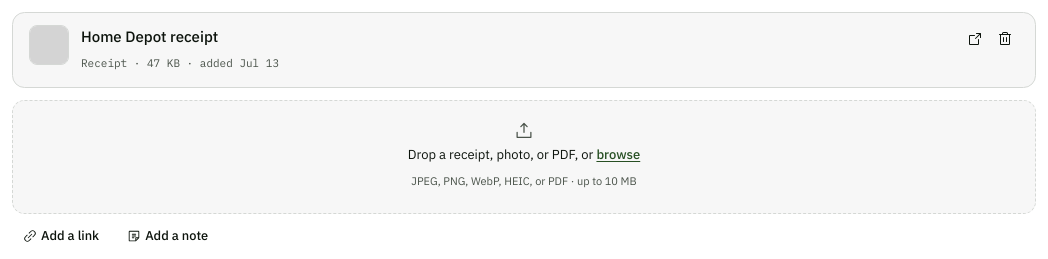
Test: AssetEvidenceSection › removes evidence through a two-step confirm, never on the first click
Click the button named "remove Home Depot receipt": click(1005, 39) [991,25,1019,53]
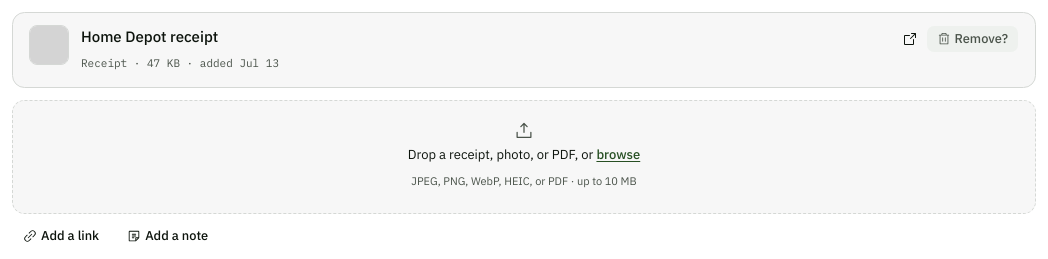
Click the button with aria-label "confirm removing Home Depot receipt": click(972, 39) [926,25,1019,53]
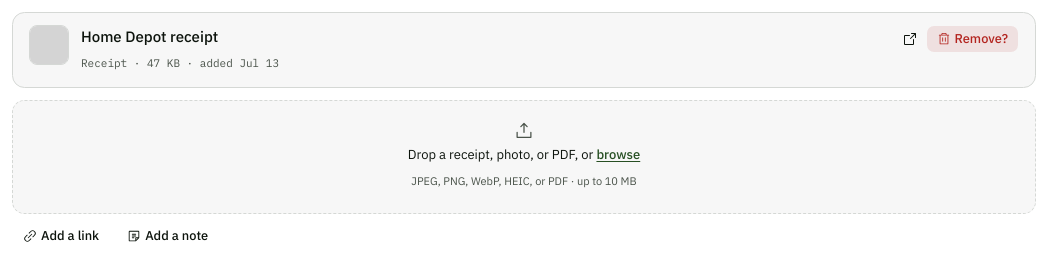
Result: the button with aria-label "confirm removing Home Depot receipt" is enabled
Click the button with aria-label "confirm removing Home Depot receipt": click(972, 39) [926,25,1019,53]
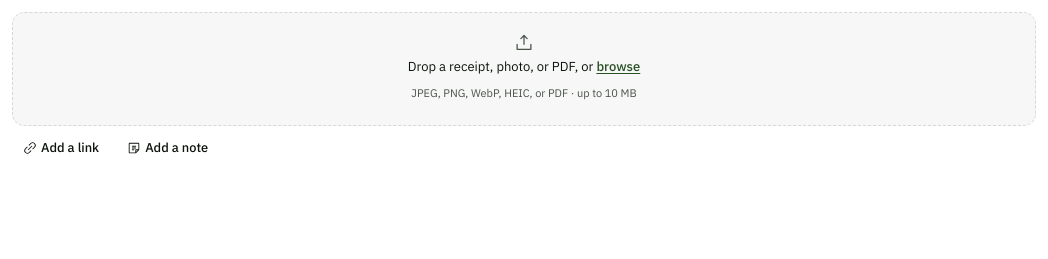
Result: the text "Home Depot receipt" is gone
